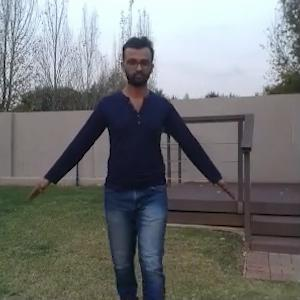land: (48, 37, 220, 299)
